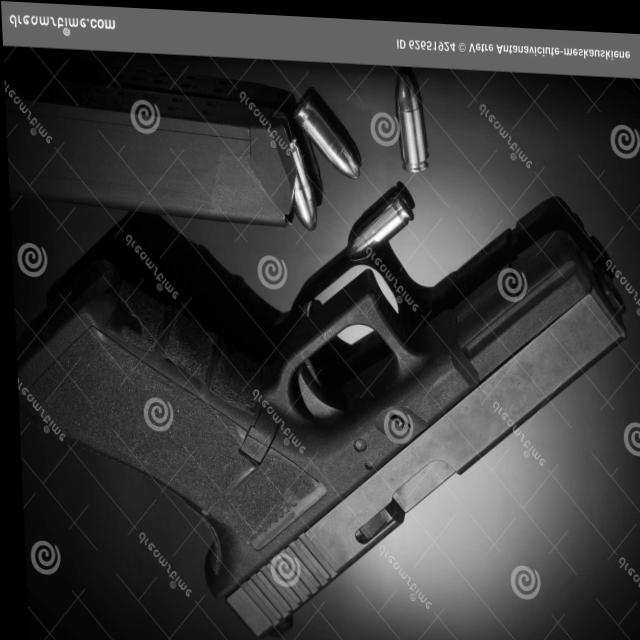handgun: (15, 185, 637, 640)
